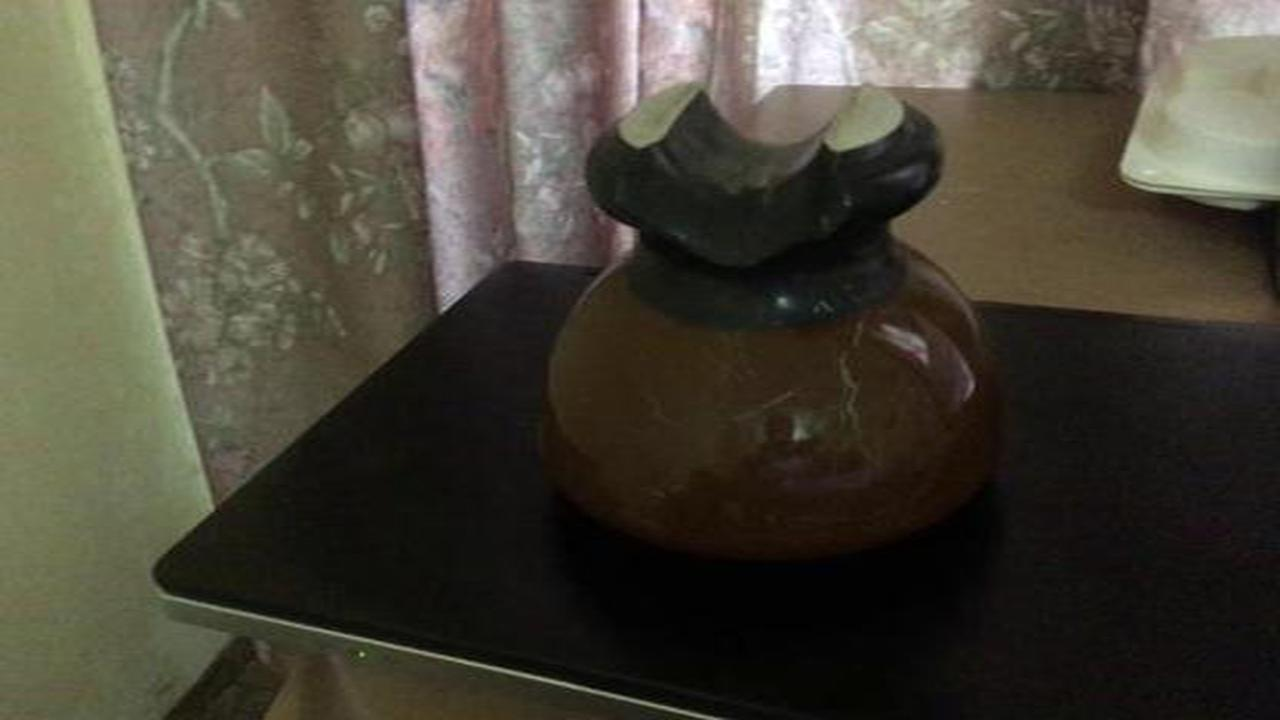insulator_pin: (517, 74, 1031, 579)
